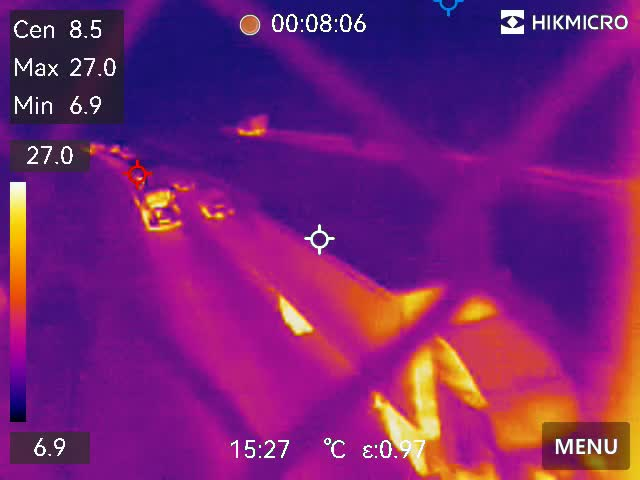heavyTruck: (246, 197, 576, 480)
